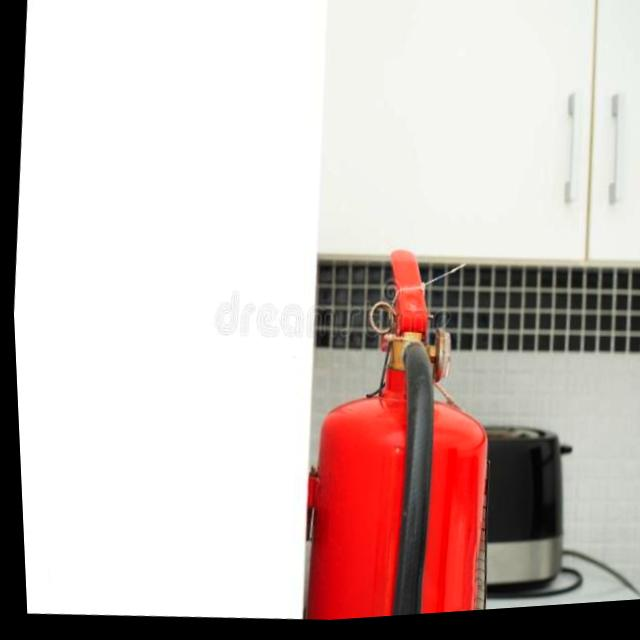FireExtinguisher: (272, 227, 514, 626)
